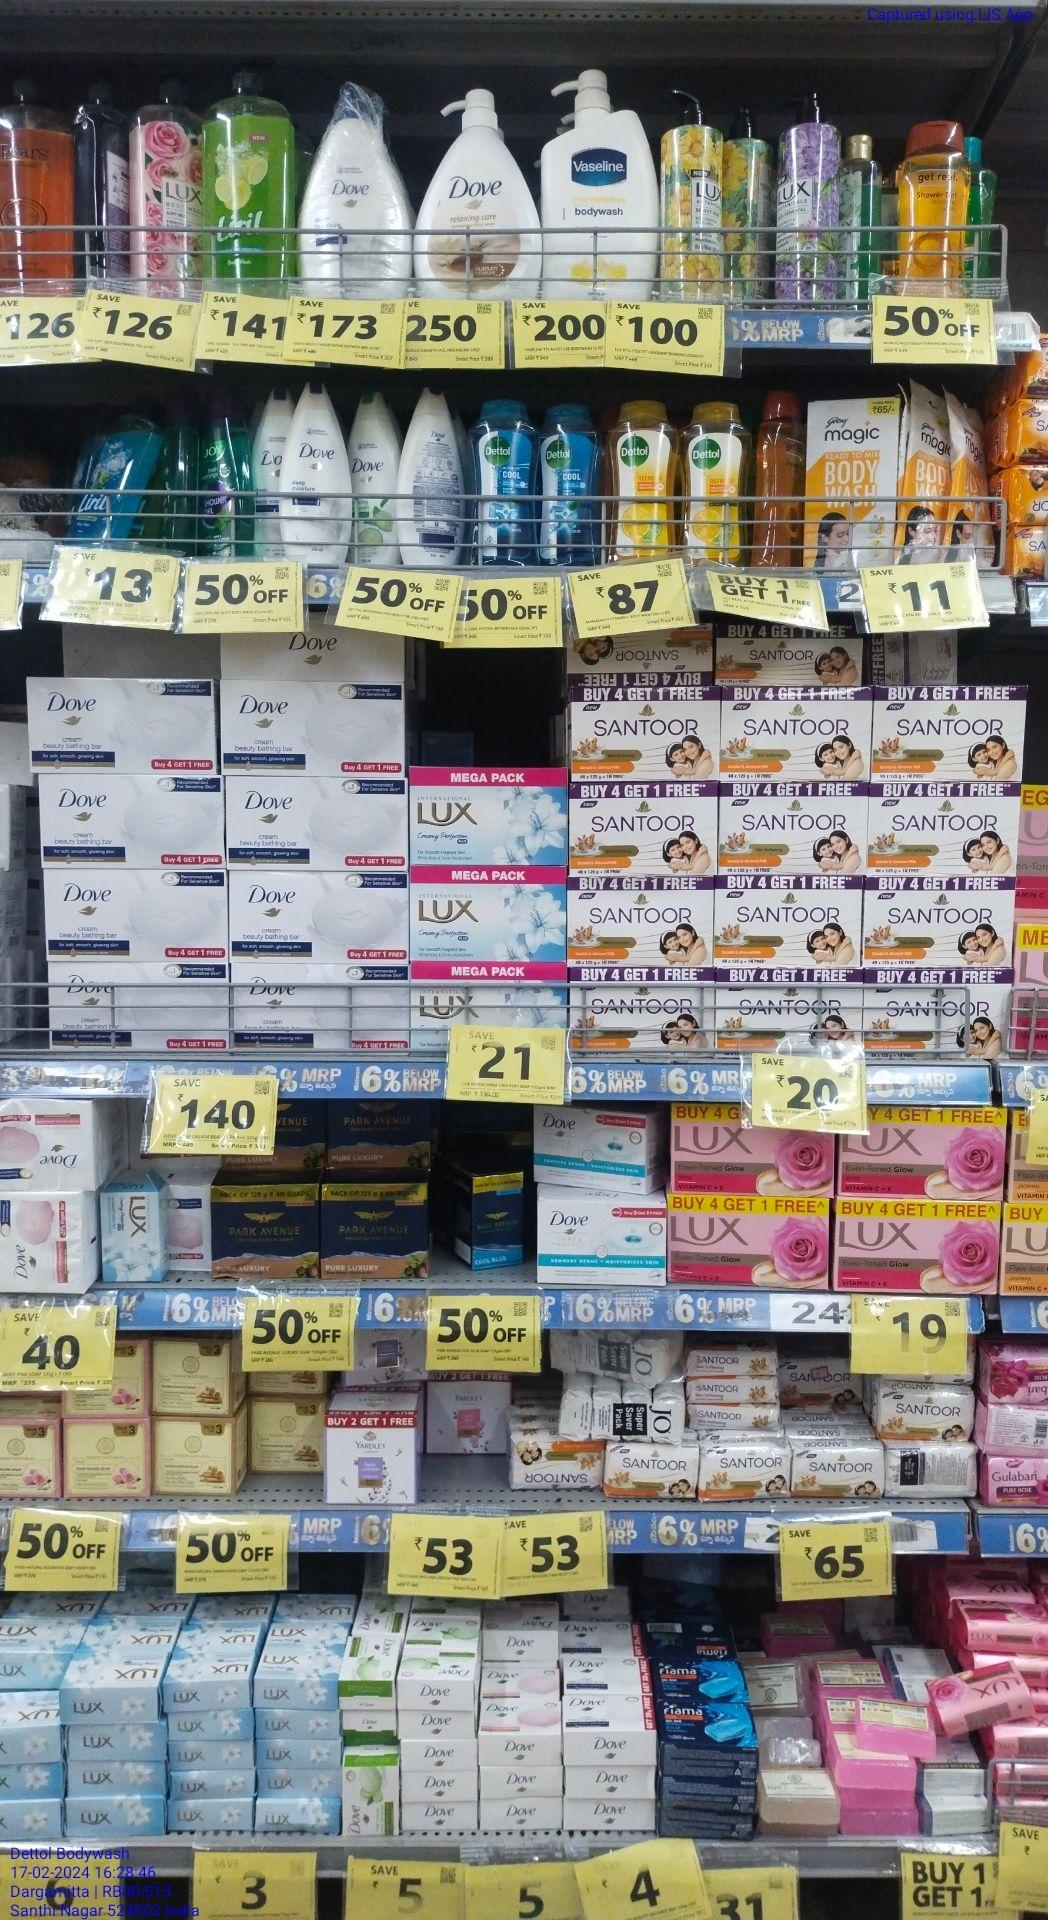Dettol_Bodywash_Cool: (472, 396, 539, 569), (546, 405, 603, 565)
Dettol_Bodywash_Refresh: (678, 392, 746, 566), (608, 400, 672, 559)
Dove_Deep_Moisture_Body_Wash_250ML: (284, 373, 350, 564)
Dove_Refreshing_Body_Wash_250ML: (352, 392, 399, 569)
Get_Real_Shower_Gel_Moisturising_Glycerin_300ML: (894, 121, 968, 281)
